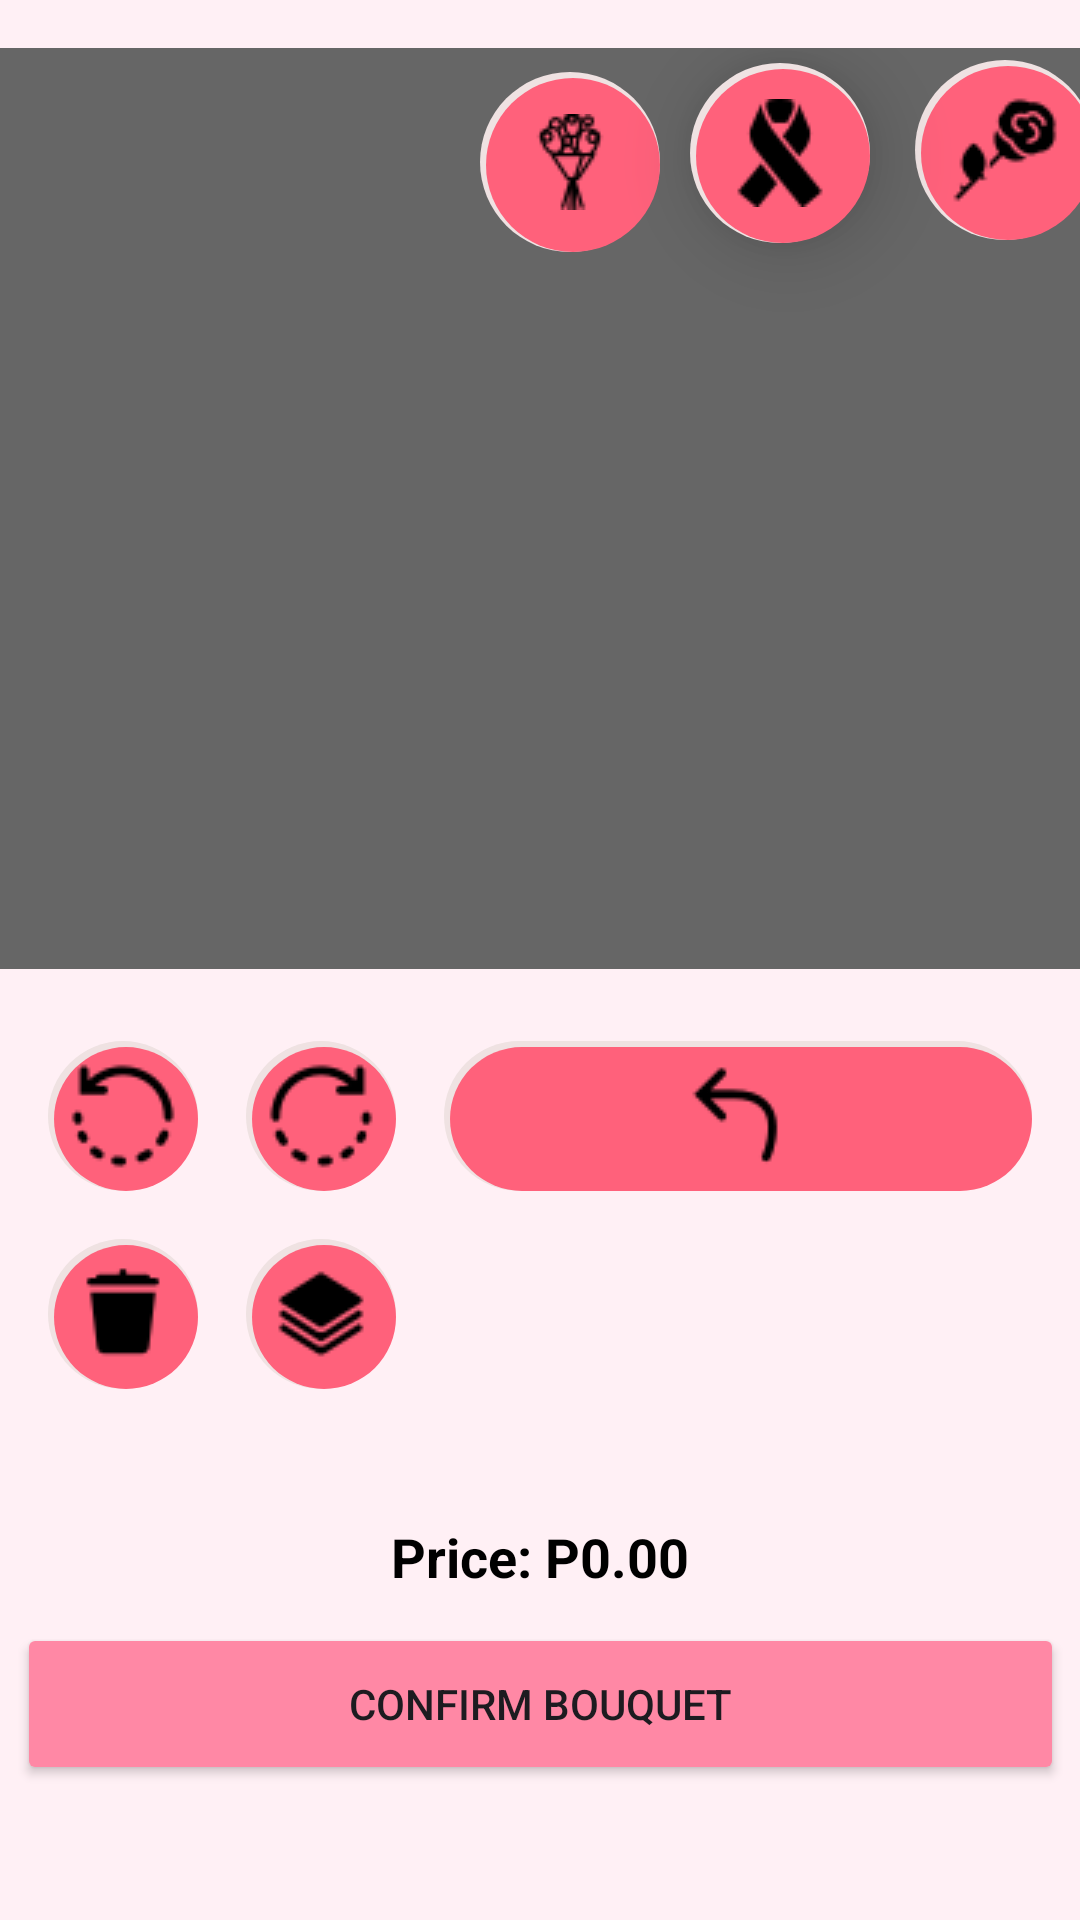

Named icons in this screenshot (1080 x 1920) and their bounding boxes, bbox=[x1, y1, x2, y2]:
delete: bbox=[54, 1245, 198, 1389]
Flowers: bbox=[915, 60, 1080, 240]
Ribbons: bbox=[690, 63, 870, 243]
rotate left: bbox=[54, 1047, 198, 1191]
rotate right: bbox=[252, 1047, 396, 1191]
send back: bbox=[252, 1245, 396, 1389]
Wraps: bbox=[480, 72, 660, 252]
